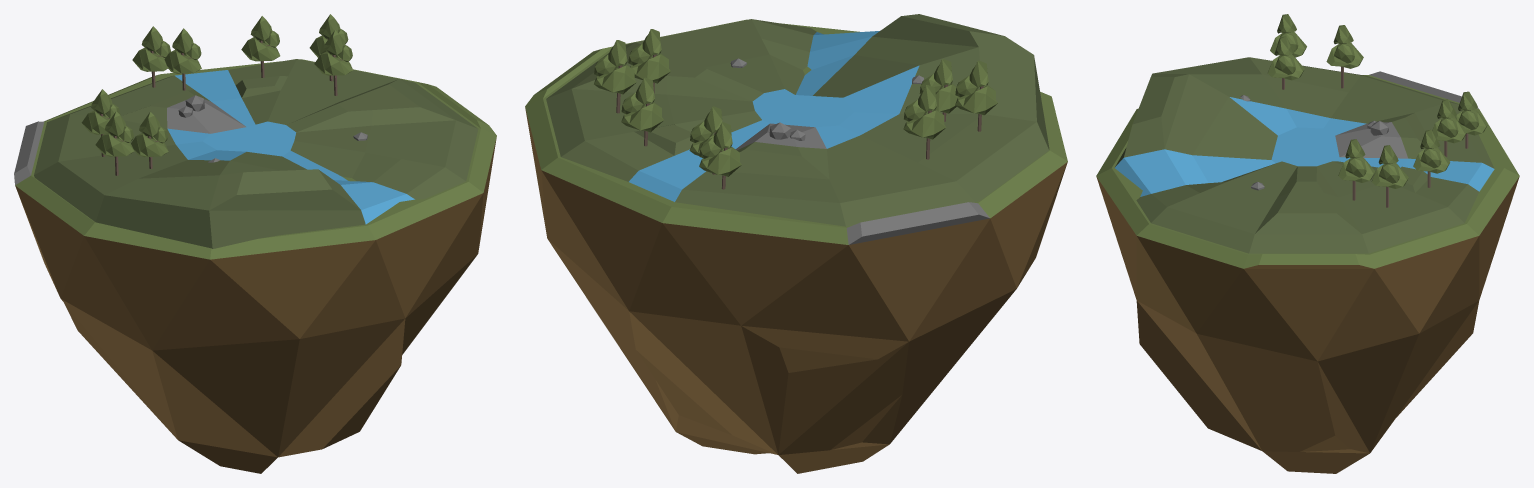
File: river.glb
The picture shows the model from 3 angles, left to right: view 1: azimuth 30°, elevation 25°; view 2: azimuth 150°, elevation 25°; view 3: azimuth 270°, elevation 25°; orthographic projection. The views are drawn at different scales.
Visible parts, largest first — view 1: planet, planet.001, Cylinder.002, Tree Type4 01 Model.002, Cylinder, Cylinder.004, Cylinder.005, Cylinder.006, Tree Type4 01 Model.001, Cylinder.003; view 2: planet, planet.001, Cylinder.003, Tree Type4 01 Model.001, Tree Type4 01 Model.002, Cylinder, Cylinder.006, Cylinder.002, Cylinder.005, Cylinder.004; view 3: planet, planet.001, Cylinder.002, Cylinder.003, Cylinder, Tree Type4 01 Model.001, Cylinder.005, Cylinder.004, Cylinder.006, Tree Type4 01 Model.002.
Part boxes in pixels (x1,y1,x2,y2): planet: [14, 59, 496, 473]; planet.001: [34, 59, 478, 248]; Cylinder.002: [314, 30, 353, 95]; Tree Type4 01 Model.002: [95, 111, 134, 175]; Cylinder: [241, 16, 280, 77]; Cylinder.004: [164, 28, 201, 90]; Cylinder.005: [131, 111, 168, 168]; Cylinder.006: [132, 26, 170, 87]; Tree Type4 01 Model.001: [81, 89, 120, 156]; Cylinder.003: [309, 14, 348, 81]; planet: [525, 19, 1067, 473]; planet.001: [546, 14, 1049, 226]; Cylinder.003: [594, 40, 636, 113]; Tree Type4 01 Model.001: [903, 85, 946, 159]; Tree Type4 01 Model.002: [955, 60, 997, 131]; Cylinder: [621, 77, 663, 146]; Cylinder.006: [699, 122, 741, 189]; Cylinder.002: [628, 29, 670, 93]; Cylinder.005: [919, 59, 958, 121]; Cylinder.004: [689, 106, 730, 174]; planet: [1096, 71, 1519, 473]; planet.001: [1114, 57, 1494, 253]; Cylinder.002: [1338, 139, 1375, 200]; Cylinder.003: [1371, 145, 1408, 207]; Cylinder: [1413, 129, 1450, 187]; Tree Type4 01 Model.001: [1326, 25, 1363, 88]; Cylinder.005: [1268, 36, 1304, 89]; Cylinder.004: [1432, 99, 1466, 157]; Cylinder.006: [1455, 91, 1487, 148]; Tree Type4 01 Model.002: [1270, 14, 1306, 57].
Size of the model in its own units: 2.8 by 2.5 by 2.62.
